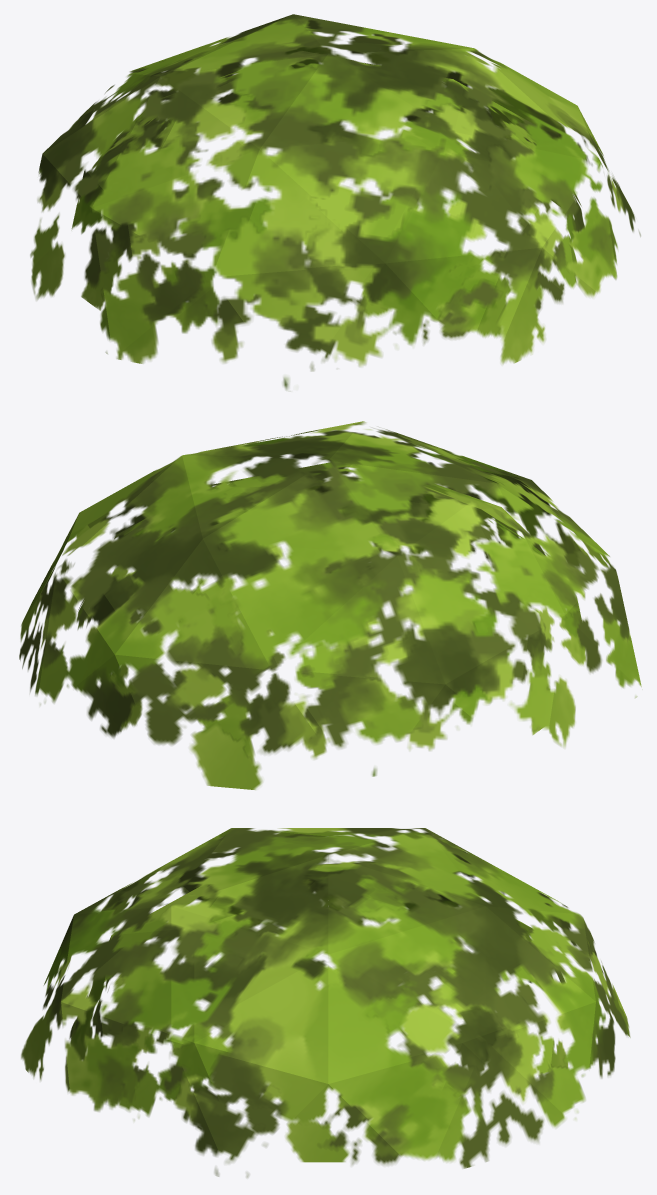
Rendered from Plant_13.glb.
3 renders of one model, top to bottom at view 1: azimuth 30°, elevation 25°; view 2: azimuth 150°, elevation 25°; view 3: azimuth 270°, elevation 25°, orthographic. The views are drawn at different scales.
Visible parts, largest first — view 1: Plant_13; view 2: Plant_13; view 3: Plant_13.
Part boxes in pixels (x1=…): Plant_13: x1=30, y1=14, x2=640, y2=390; Plant_13: x1=19, y1=421, x2=641, y2=789; Plant_13: x1=21, y1=828, x2=630, y2=1177.
Size of the model in its own units: 0.8776 by 0.3231 by 0.9227.
1 material, 1 textured.
